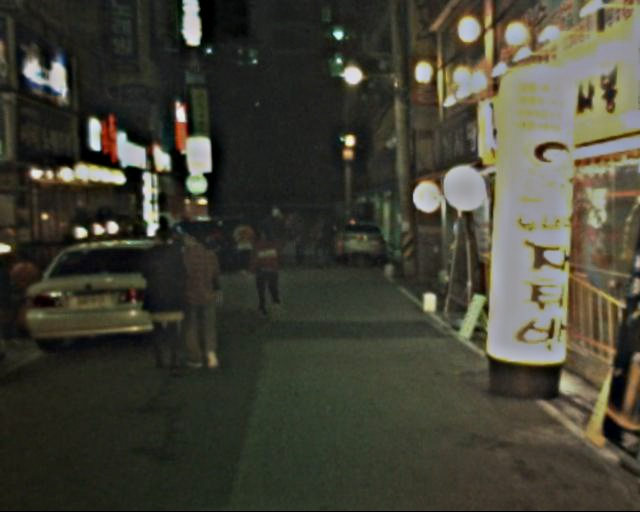person: (135, 221, 194, 381), (173, 220, 231, 378), (248, 224, 288, 323), (265, 201, 294, 279), (229, 216, 259, 284), (284, 213, 306, 275), (315, 218, 337, 275)
